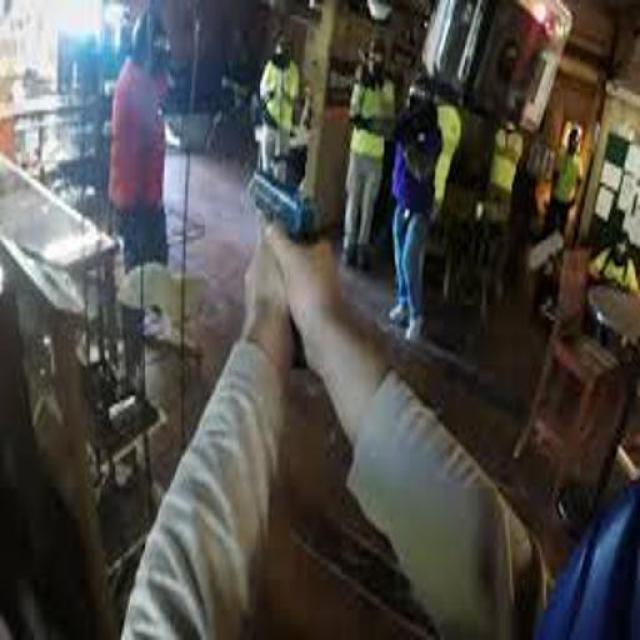pistol: (243, 160, 318, 384)
